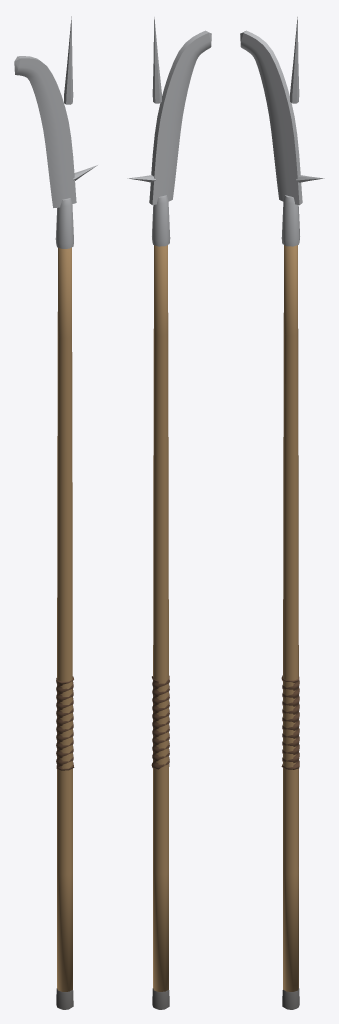
The model's file is bill.glb.
3 renders of one model, left to right at view 1: azimuth 30°, elevation 25°; view 2: azimuth 210°, elevation 25°; view 3: azimuth 330°, elevation 25°, orthographic.
Parts seen in each view (by area): view 1: bill; view 2: bill; view 3: bill.
Boxes of the visible parts, x1,y1,x2,y2 form: bill: (14,16,97,1009); bill: (127,17,211,1009); bill: (240,17,324,1009).
Size of the model in its own units: 0.5 by 5.61 by 0.0974.
